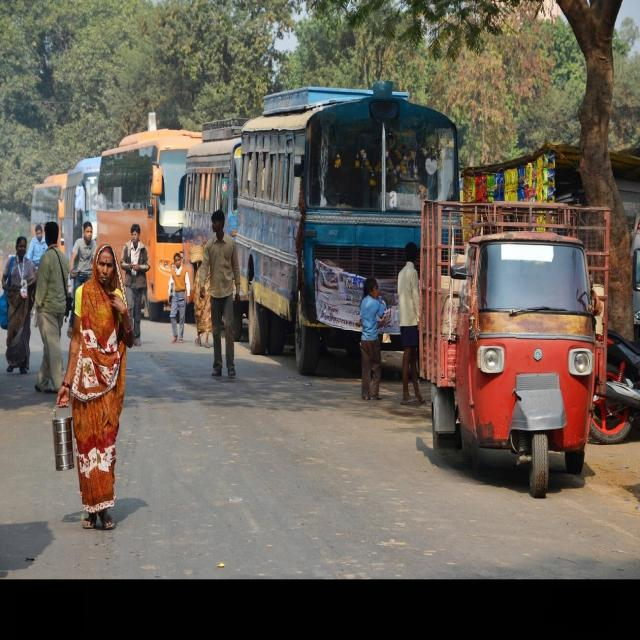autorickshaw: (420, 201, 609, 497)
bus: (236, 85, 458, 374), (98, 128, 201, 318), (182, 119, 246, 262), (64, 157, 101, 257)
